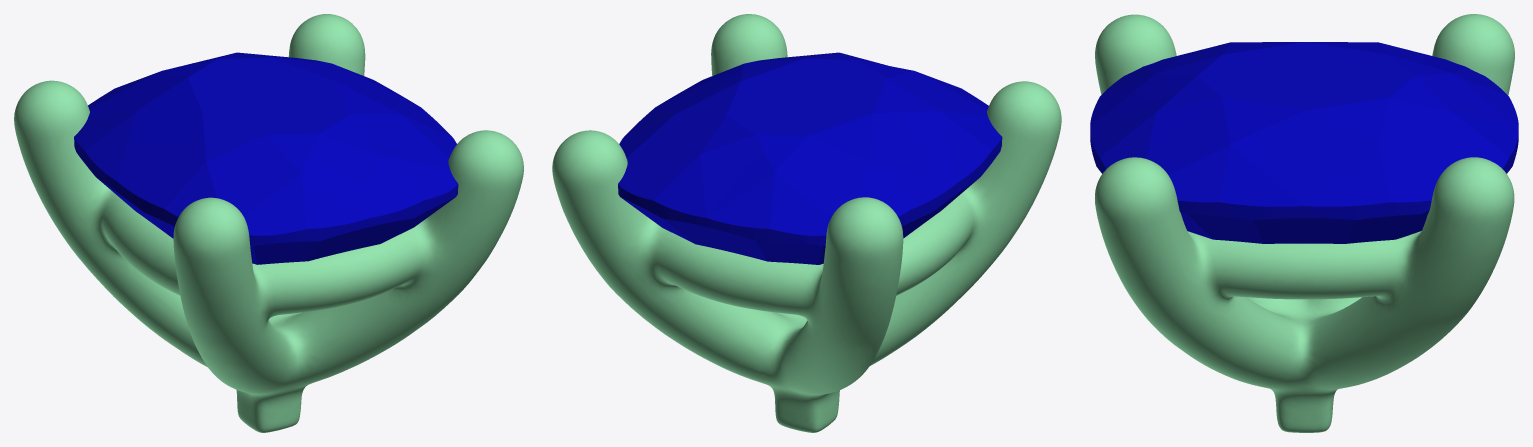
File: Cushion.3dm.glb
The picture shows the model from 3 angles, left to right: view 1: azimuth 30°, elevation 25°; view 2: azimuth 150°, elevation 25°; view 3: azimuth 270°, elevation 25°; orthographic projection. The views are drawn at different scales.
Parts seen in each view (by area): view 1: /Cushion.3dm, Diamond_Cushion; view 2: /Cushion.3dm, Diamond_Cushion; view 3: /Cushion.3dm, Diamond_Cushion.
Part boxes in pixels (x1,y1,x2,y2): /Cushion.3dm: [14, 14, 523, 432]; Diamond_Cushion: [74, 52, 458, 264]; /Cushion.3dm: [552, 14, 1061, 432]; Diamond_Cushion: [618, 52, 1002, 264]; /Cushion.3dm: [1095, 14, 1514, 432]; Diamond_Cushion: [1090, 42, 1518, 243].
Bounding box in the file's own units: 7.51 × 6.89 × 7.67.
